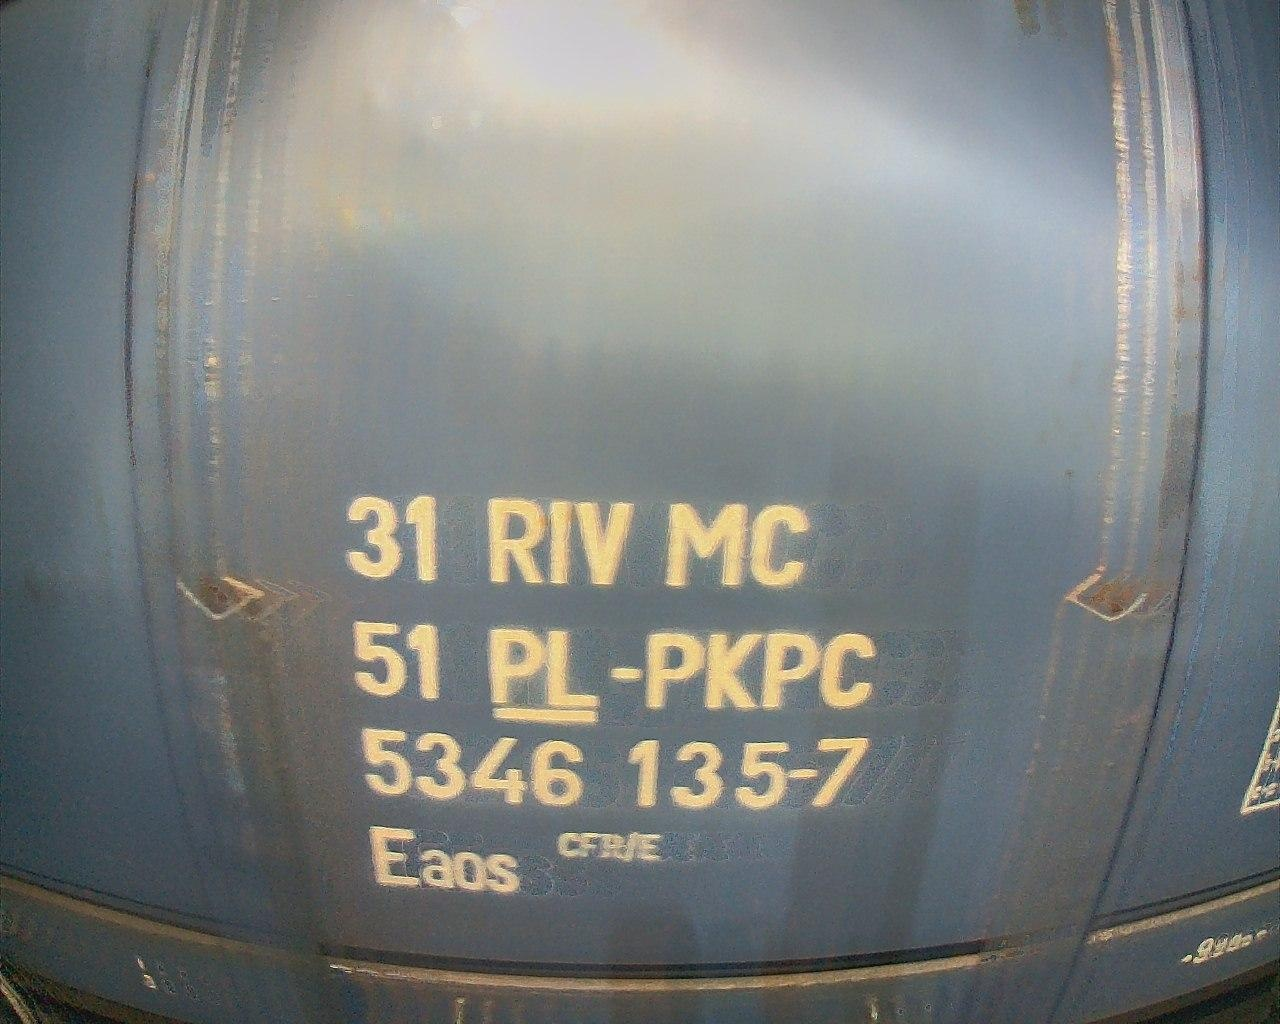UIC: (338, 489, 878, 901)
